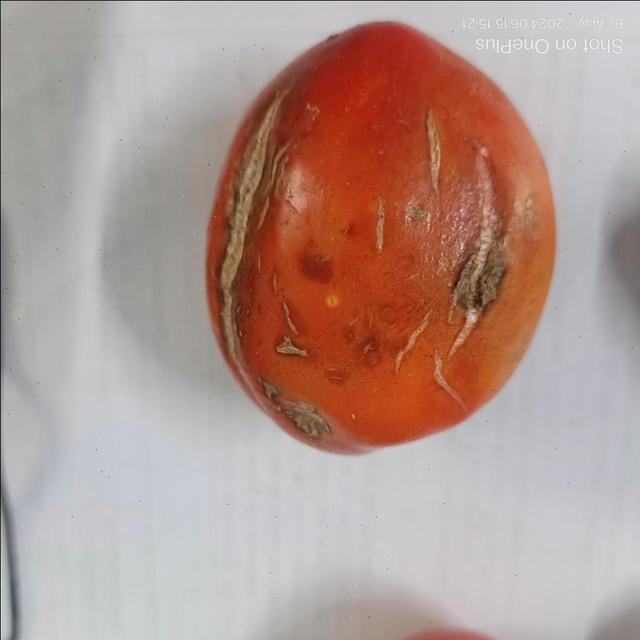Cracking Fruit: (140, 142, 353, 308)
